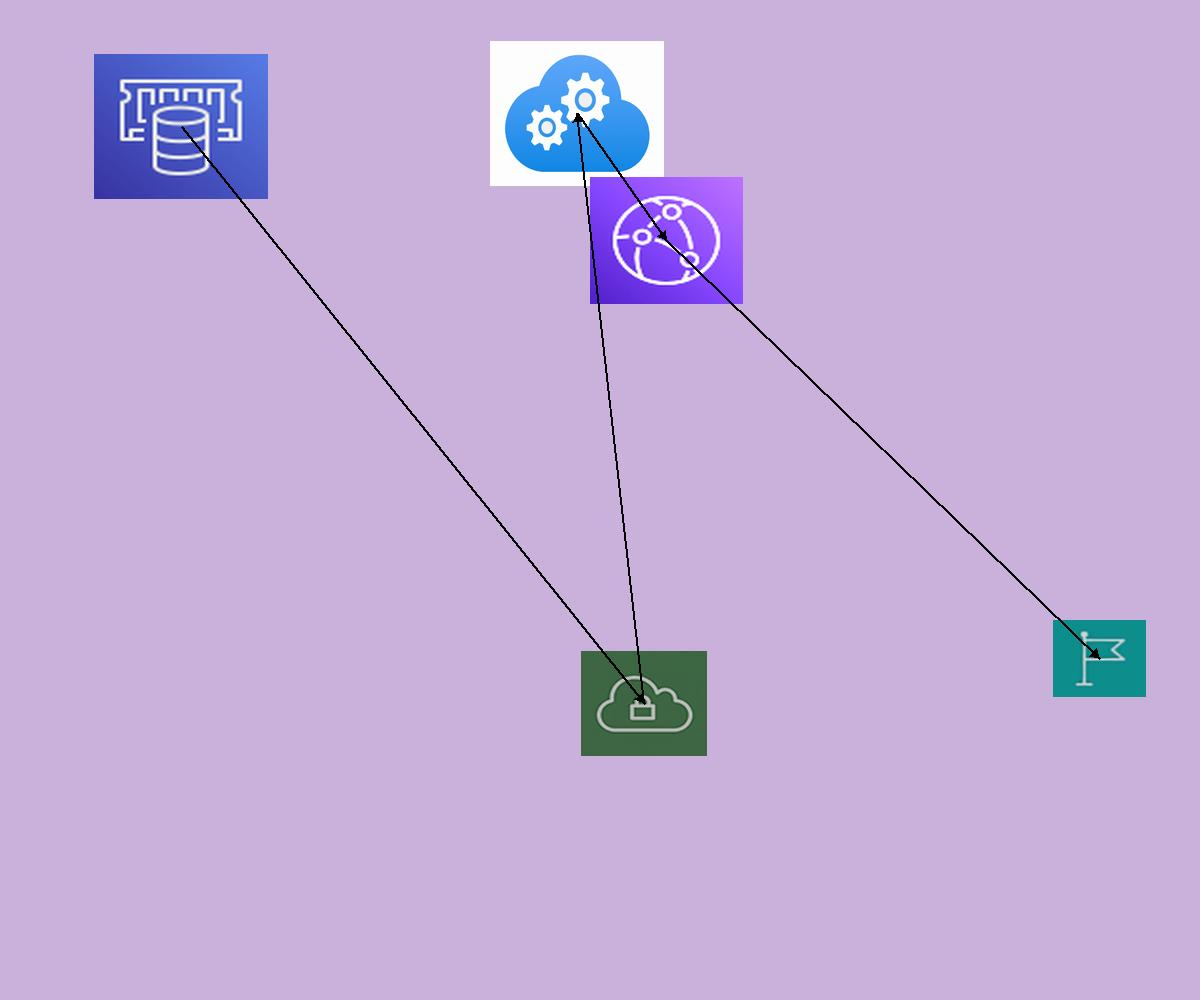AWS-CloudFront: (590, 177, 743, 304)
AWS-ElastiCache: (94, 54, 268, 199)
AWS-Private_vpc: (581, 651, 707, 756)
AWS-Region: (1053, 620, 1146, 697)
Azure_cloud_services: (490, 41, 664, 186)
